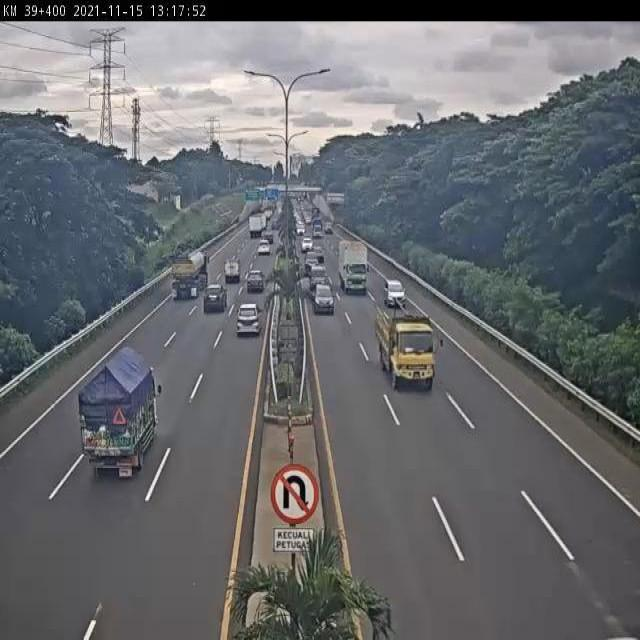car: (236, 302, 262, 338), (202, 282, 229, 314), (311, 280, 335, 315), (380, 277, 405, 308), (245, 268, 267, 295)
truck-m-: (81, 349, 162, 480), (375, 306, 438, 390), (339, 240, 372, 299)
truck-xl-: (172, 246, 209, 302)
